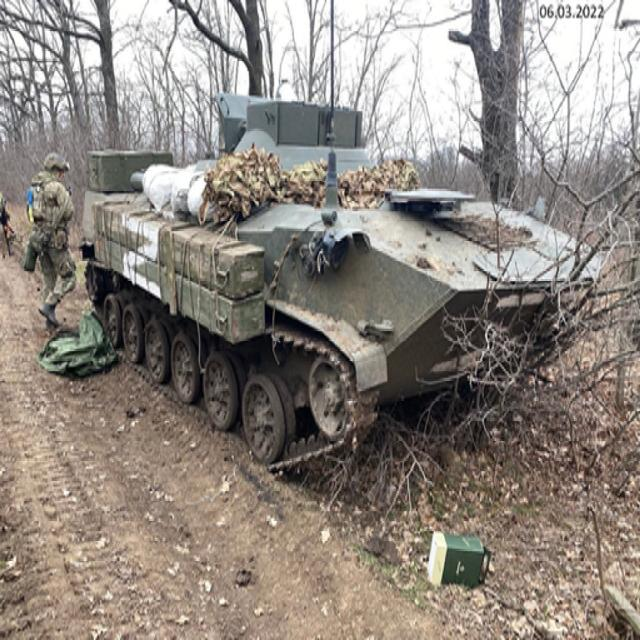APC-IFV: (78, 89, 598, 482)
